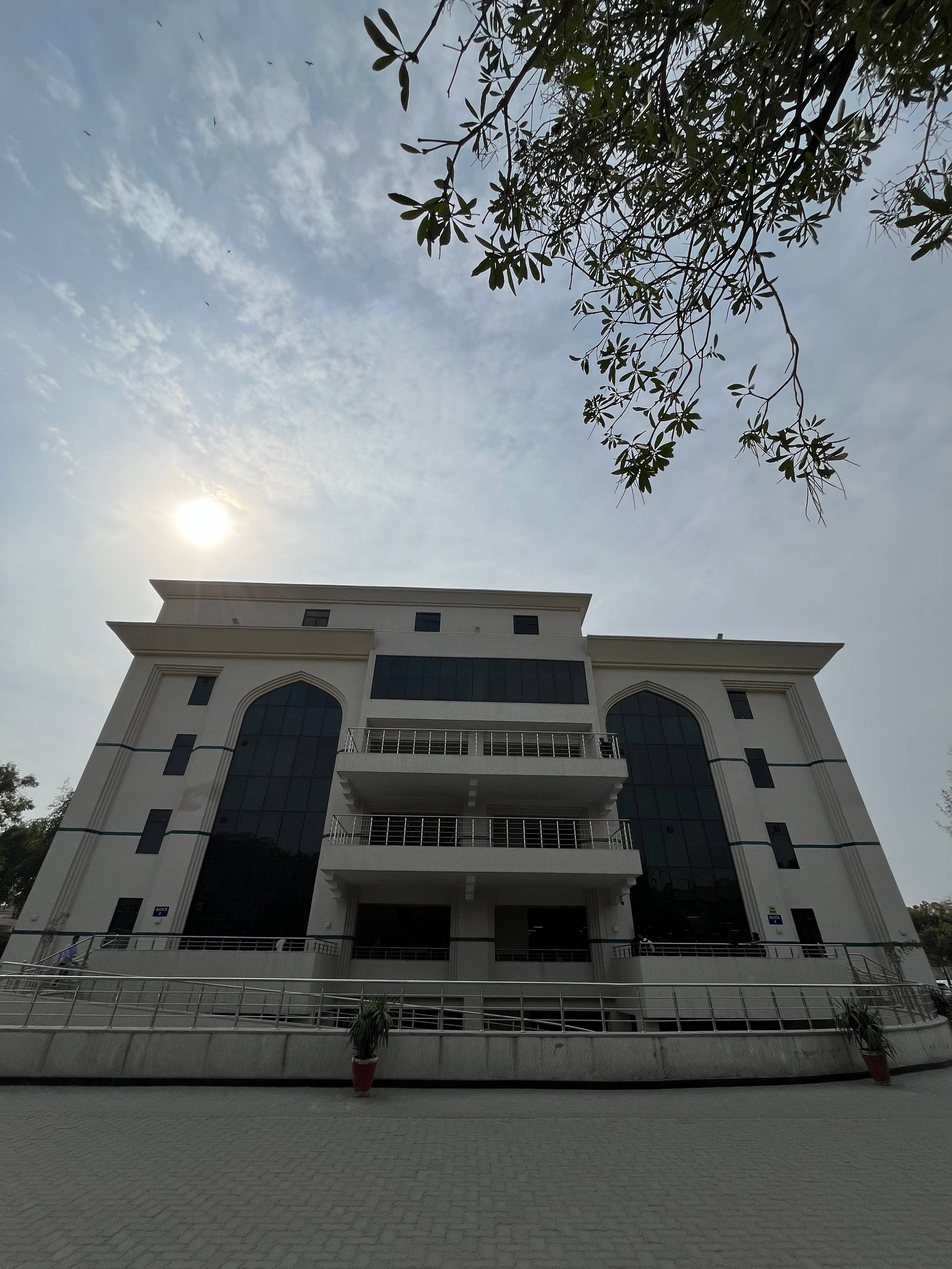Block F: (18, 555, 952, 1028)
